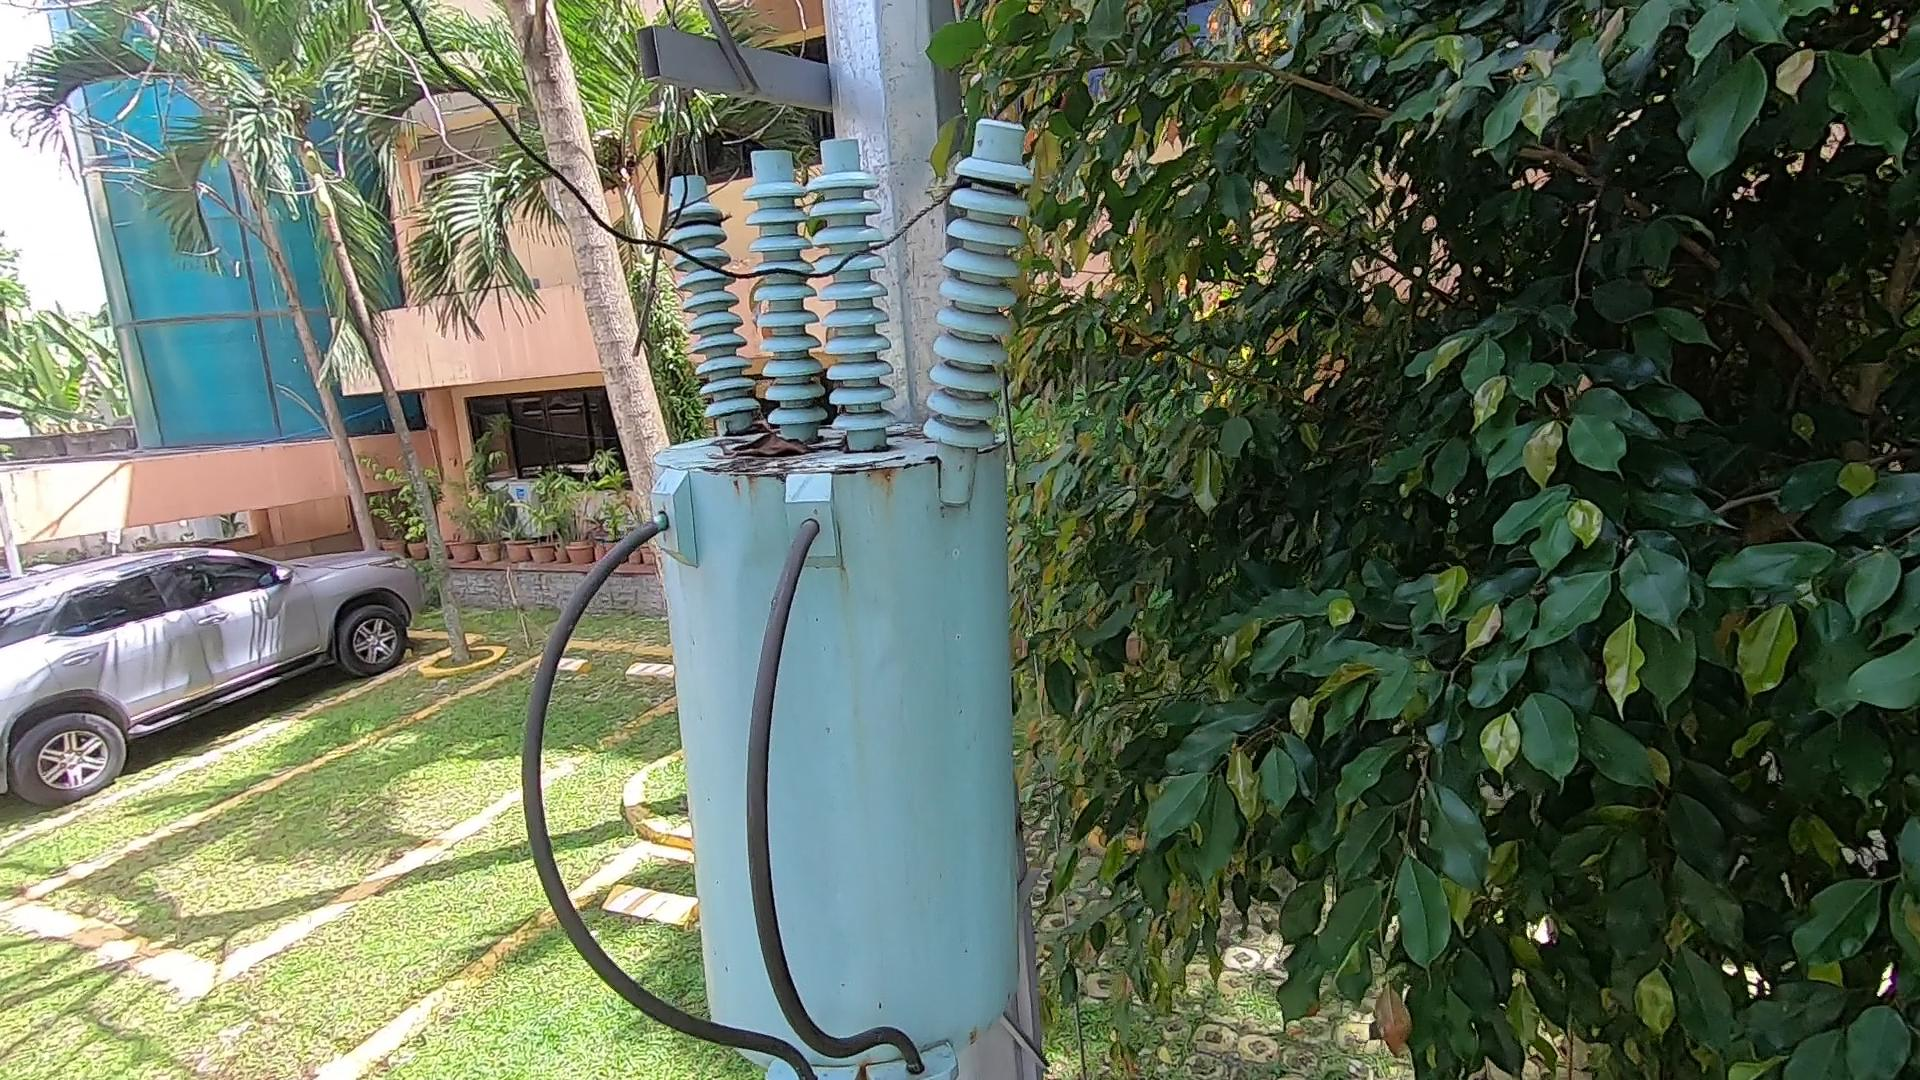leaf: (717, 411, 808, 465)
tree branch: (613, 18, 692, 371)
